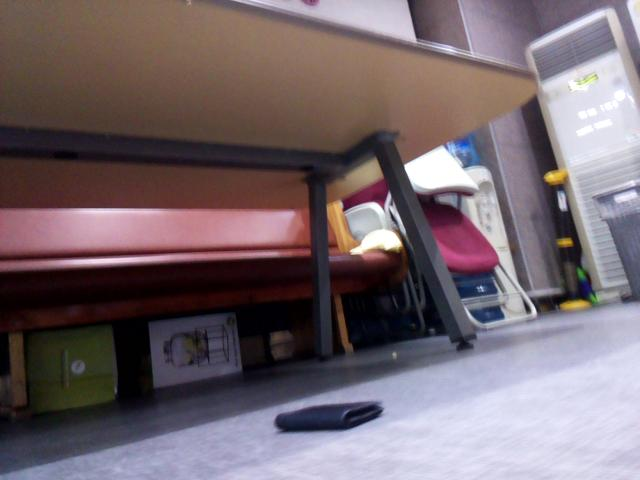wallet: (269, 391, 387, 439)
